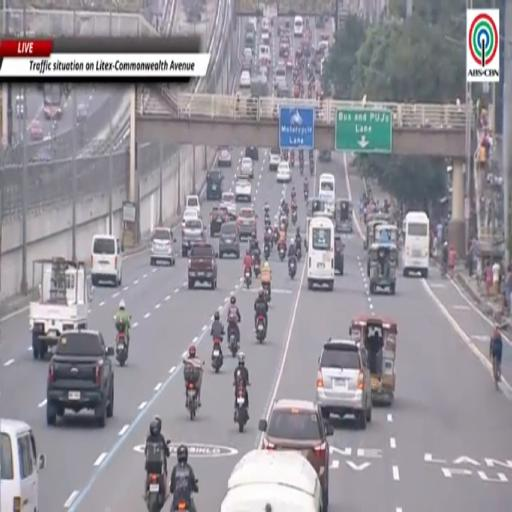bus: (307, 217, 335, 290), (402, 212, 429, 278), (305, 198, 330, 247), (43, 84, 62, 120), (319, 173, 335, 204)
car: (259, 399, 333, 509), (316, 340, 372, 428), (0, 419, 45, 511), (91, 234, 122, 286), (150, 228, 175, 265), (182, 219, 205, 257), (219, 222, 240, 258), (237, 207, 257, 239), (206, 169, 223, 200), (210, 207, 227, 236), (334, 234, 344, 275), (220, 191, 236, 215), (235, 179, 251, 202), (238, 157, 254, 179), (217, 146, 232, 168), (185, 195, 200, 216), (274, 63, 286, 88), (182, 210, 199, 227), (29, 120, 43, 140), (277, 162, 291, 182), (269, 148, 281, 170), (259, 44, 270, 66), (15, 95, 25, 118), (277, 82, 291, 98), (279, 38, 290, 58), (77, 103, 87, 123), (294, 15, 303, 37), (245, 146, 258, 161), (240, 71, 251, 88), (318, 41, 329, 57), (245, 32, 255, 49), (246, 18, 257, 33), (261, 18, 270, 35), (319, 150, 331, 162), (242, 58, 252, 71), (261, 31, 270, 44), (243, 48, 253, 59), (286, 56, 293, 70)
jeepney: (349, 315, 397, 405), (369, 243, 398, 294), (304, 197, 332, 247), (364, 214, 392, 249), (335, 199, 353, 233), (364, 220, 383, 250), (375, 224, 398, 245), (367, 213, 393, 223)
motorcycle: (145, 473, 166, 511), (146, 474, 164, 511), (115, 323, 128, 367), (236, 386, 248, 433), (187, 382, 197, 420), (212, 339, 223, 373), (228, 328, 239, 357), (256, 315, 266, 343), (172, 499, 195, 511), (289, 259, 296, 279), (263, 284, 270, 303), (280, 215, 288, 231), (245, 268, 251, 289), (254, 259, 260, 278), (279, 245, 285, 261), (264, 244, 270, 260), (264, 216, 271, 229), (296, 244, 301, 261), (273, 230, 279, 244), (292, 210, 297, 226), (290, 154, 295, 168), (310, 160, 314, 175), (304, 189, 308, 200), (300, 163, 303, 174)
truck: (47, 329, 114, 427), (29, 258, 92, 359), (188, 244, 217, 290)
